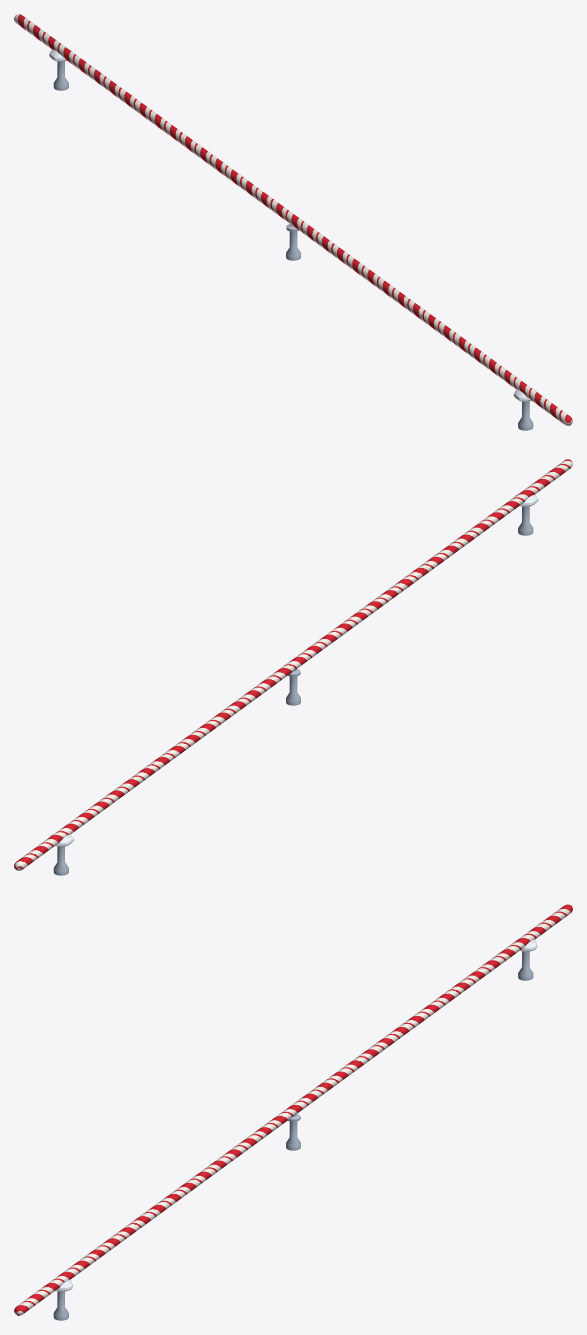
Rendered from SM_Rail_Cane.glb.
The picture shows the model from 3 angles, top to bottom: view 1: azimuth 30°, elevation 25°; view 2: azimuth 150°, elevation 25°; view 3: azimuth 330°, elevation 25°; orthographic projection.
Parts seen in each view (by area): view 1: SM_Rail_Cane; view 2: SM_Rail_Cane; view 3: SM_Rail_Cane.
Boxes of the visible parts, x1,y1,x2,y2 form: SM_Rail_Cane: (14,14,572,430); SM_Rail_Cane: (14,459,572,875); SM_Rail_Cane: (14,904,572,1320).
Bounding box in the file's own units: 0.2938 × 0.55 × 13.12.
Materials: 3 (1 with a texture image).
